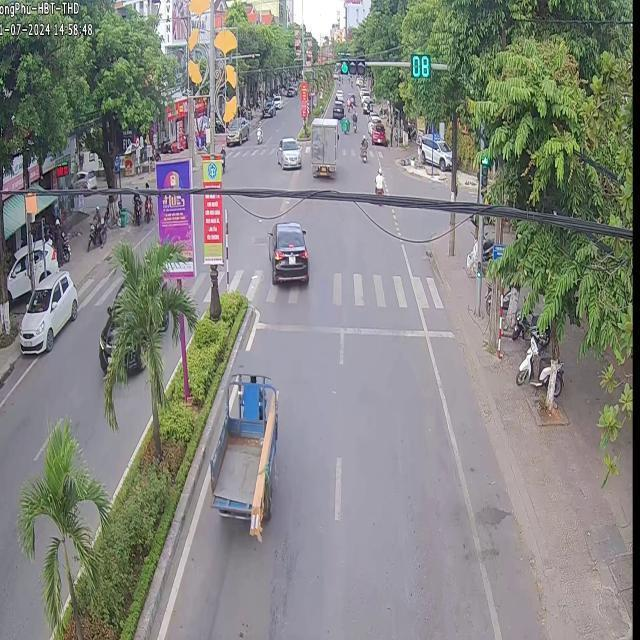car: (208, 371, 276, 537), (267, 220, 308, 282), (309, 116, 336, 172), (276, 136, 299, 167)
green_light: (338, 54, 364, 74), (479, 149, 489, 186)
motobike: (373, 167, 382, 194)
stop_line: (255, 320, 455, 337)
